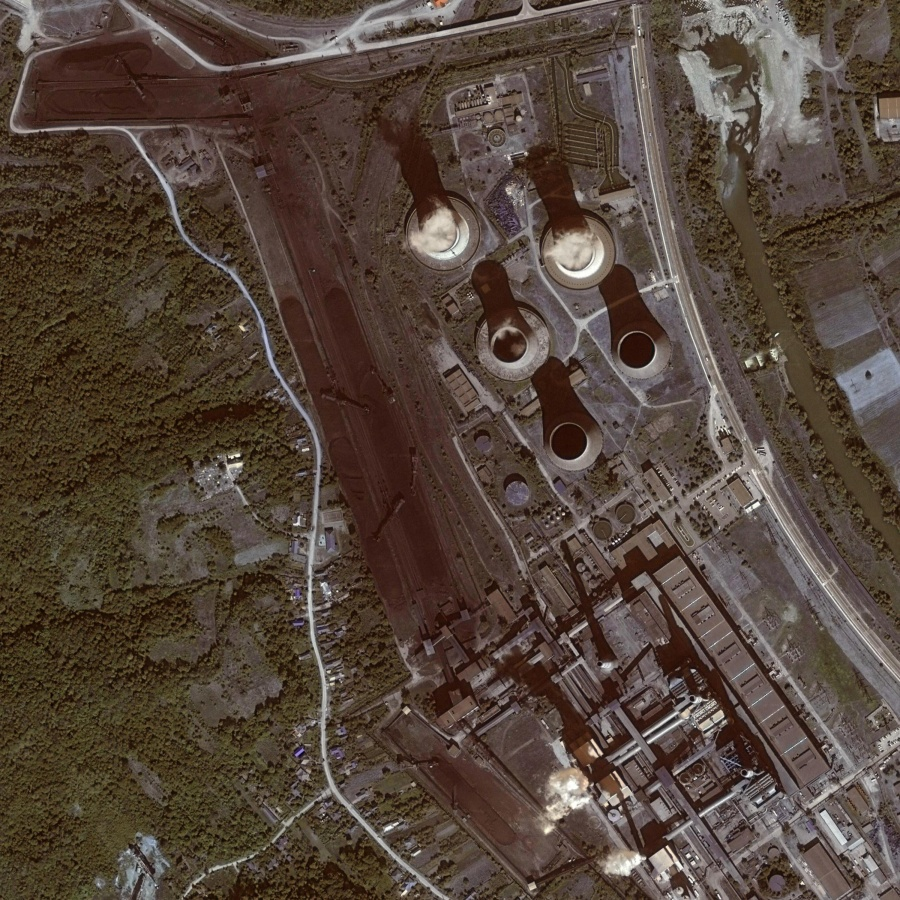PowerPlant: (244, 73, 684, 616)
